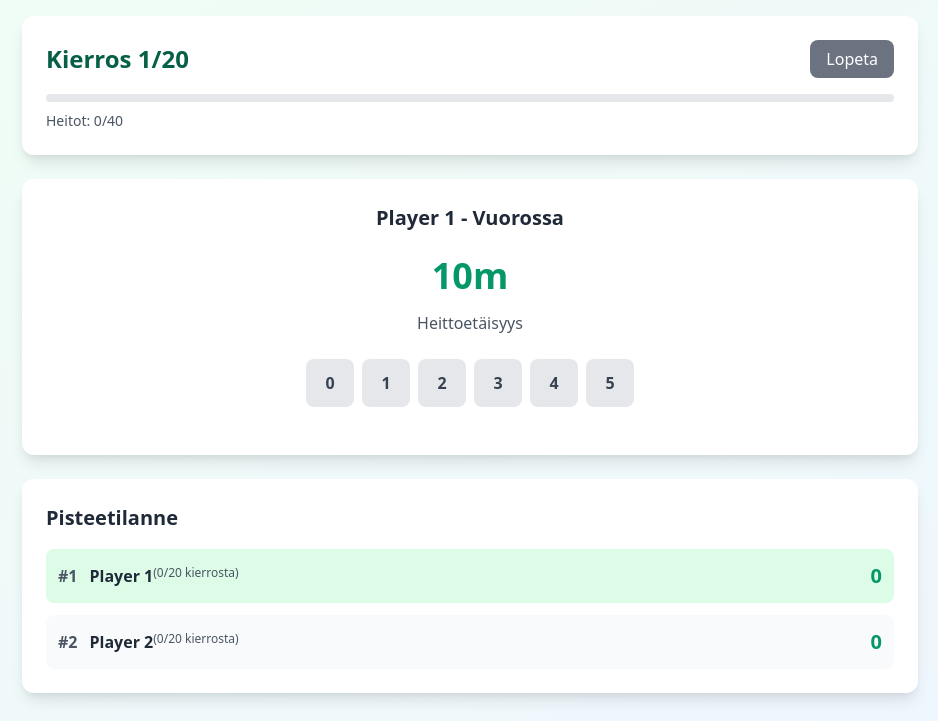
Test: JYLY Components › Multi-player gameplay › should rotate between players correctly
Expected: the heading "Player 1 - Vuorossa" is shown, [376,204,564,231]
Step 1. Click the button "3" → (498,383), box [474,359,522,407]
Wait 500 ms
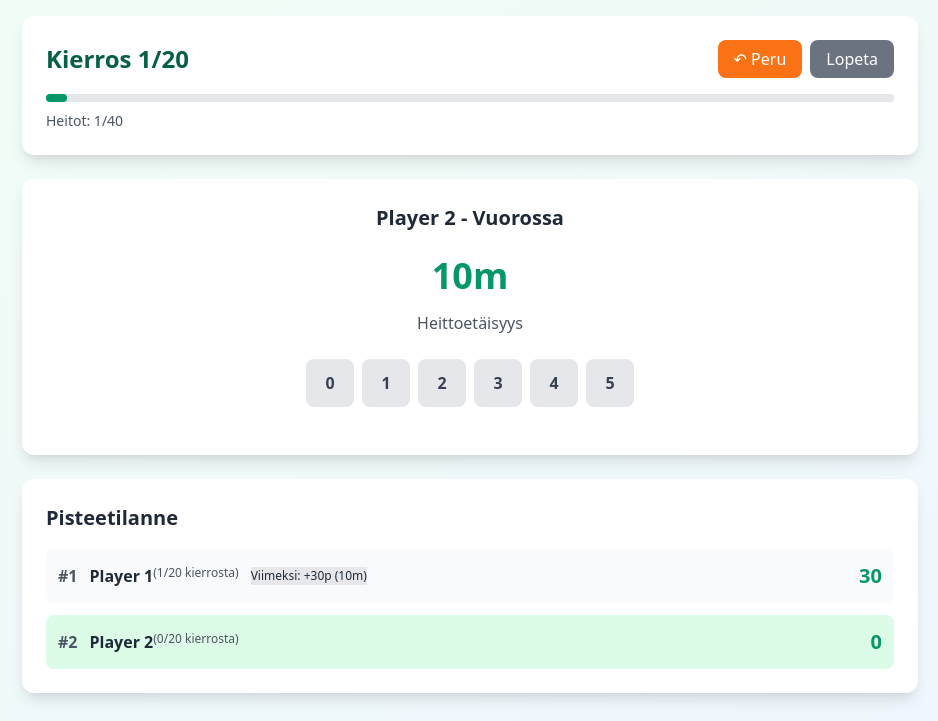
Expected: the heading "Player 2 - Vuorossa" is shown, [376,204,564,231]
